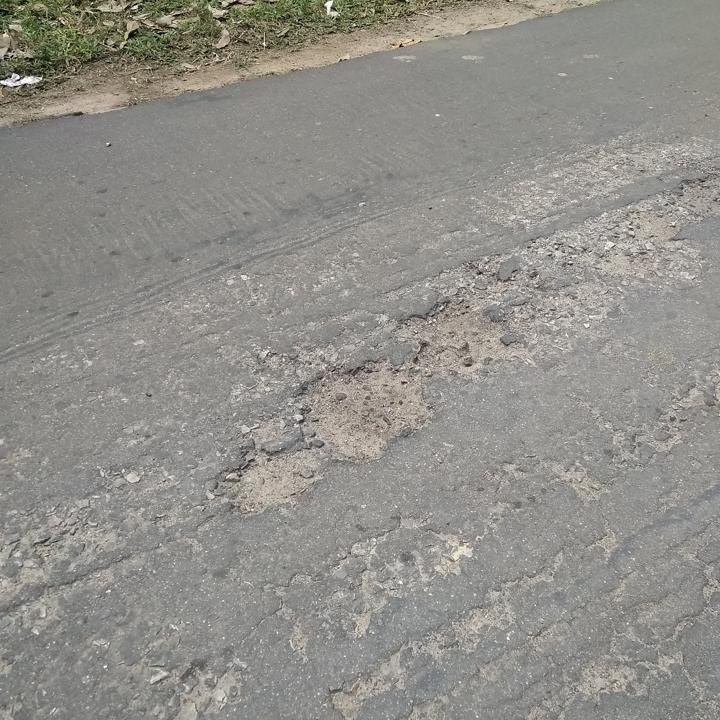pothole: (578, 167, 719, 279), (292, 358, 437, 464), (394, 292, 513, 380), (217, 441, 321, 522)
